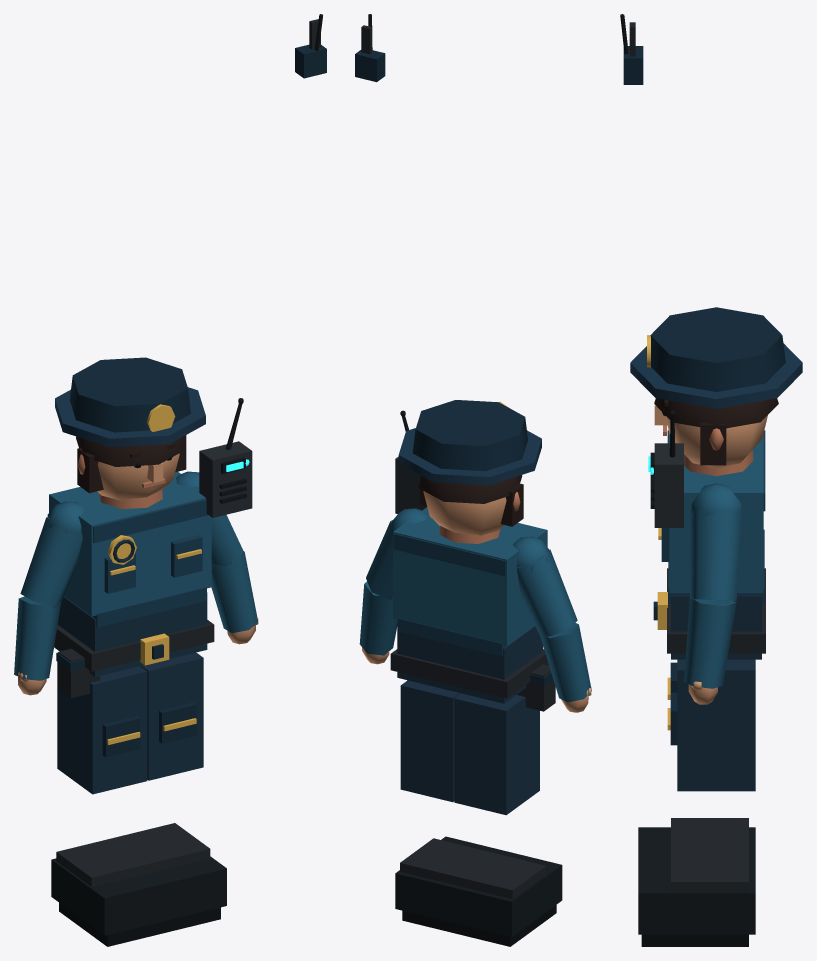
Rendered from asset.glb.
3 renders of one model, left to right at view 1: azimuth 30°, elevation 25°; view 2: azimuth 150°, elevation 25°; view 3: azimuth 270°, elevation 25°, orthographic. The views are drawn at different scales.
Visible parts, largest first — view 1: LowPolyCop, AttachedRadio; view 2: LowPolyCop, AttachedRadio; view 3: LowPolyCop, AttachedRadio.
Part boxes in pixels (left/top/right/bottom): LowPolyCop: left=14, top=357, right=258, bottom=946; AttachedRadio: left=199, top=14, right=326, bottom=517; LowPolyCop: left=359, top=400, right=591, bottom=946; AttachedRadio: left=355, top=14, right=427, bottom=513; LowPolyCop: left=630, top=307, right=802, bottom=946; AttachedRadio: left=620, top=14, right=683, bottom=527.
Size of the model in its own units: 2.14 by 6.65 by 1.12.
